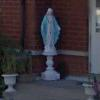Statue: (29, 5, 69, 86)
